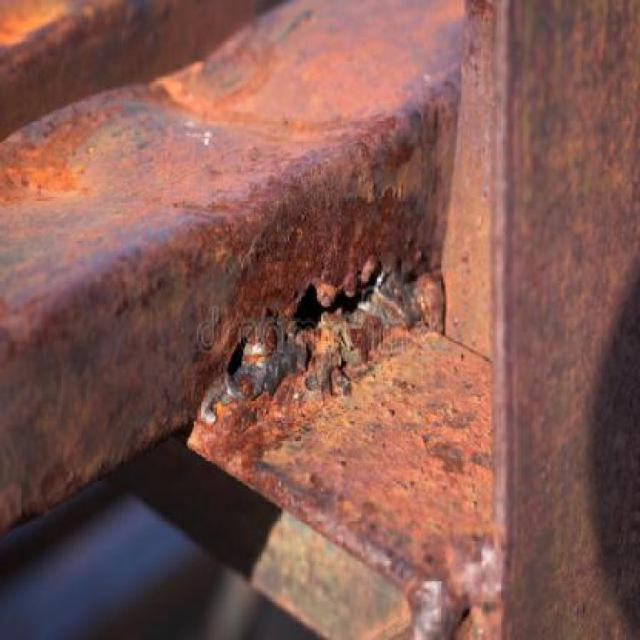defective: (3, 18, 640, 540)
